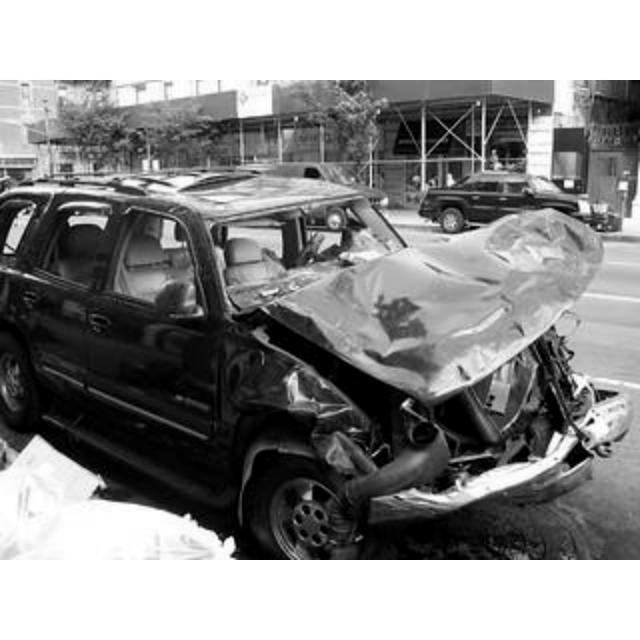bonnet-dent: (272, 218, 600, 386)
front-bumper-dent: (362, 384, 618, 514)
roof-dent: (30, 156, 344, 216)
